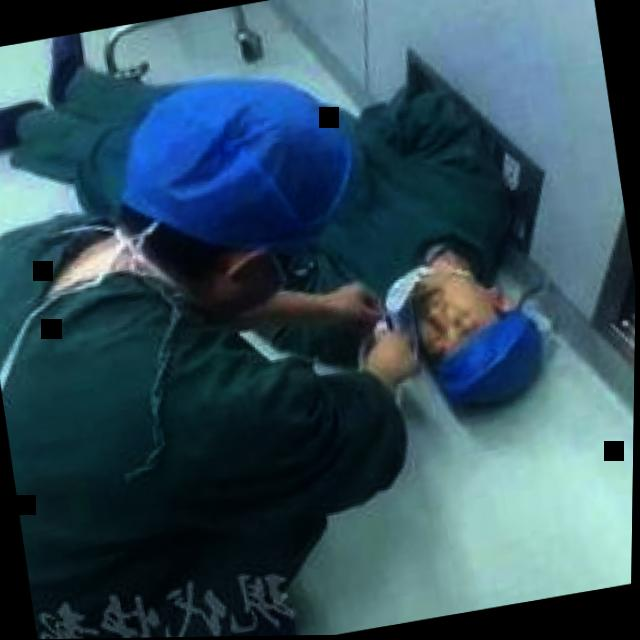Fall-Detected: (169, 9, 574, 439)
